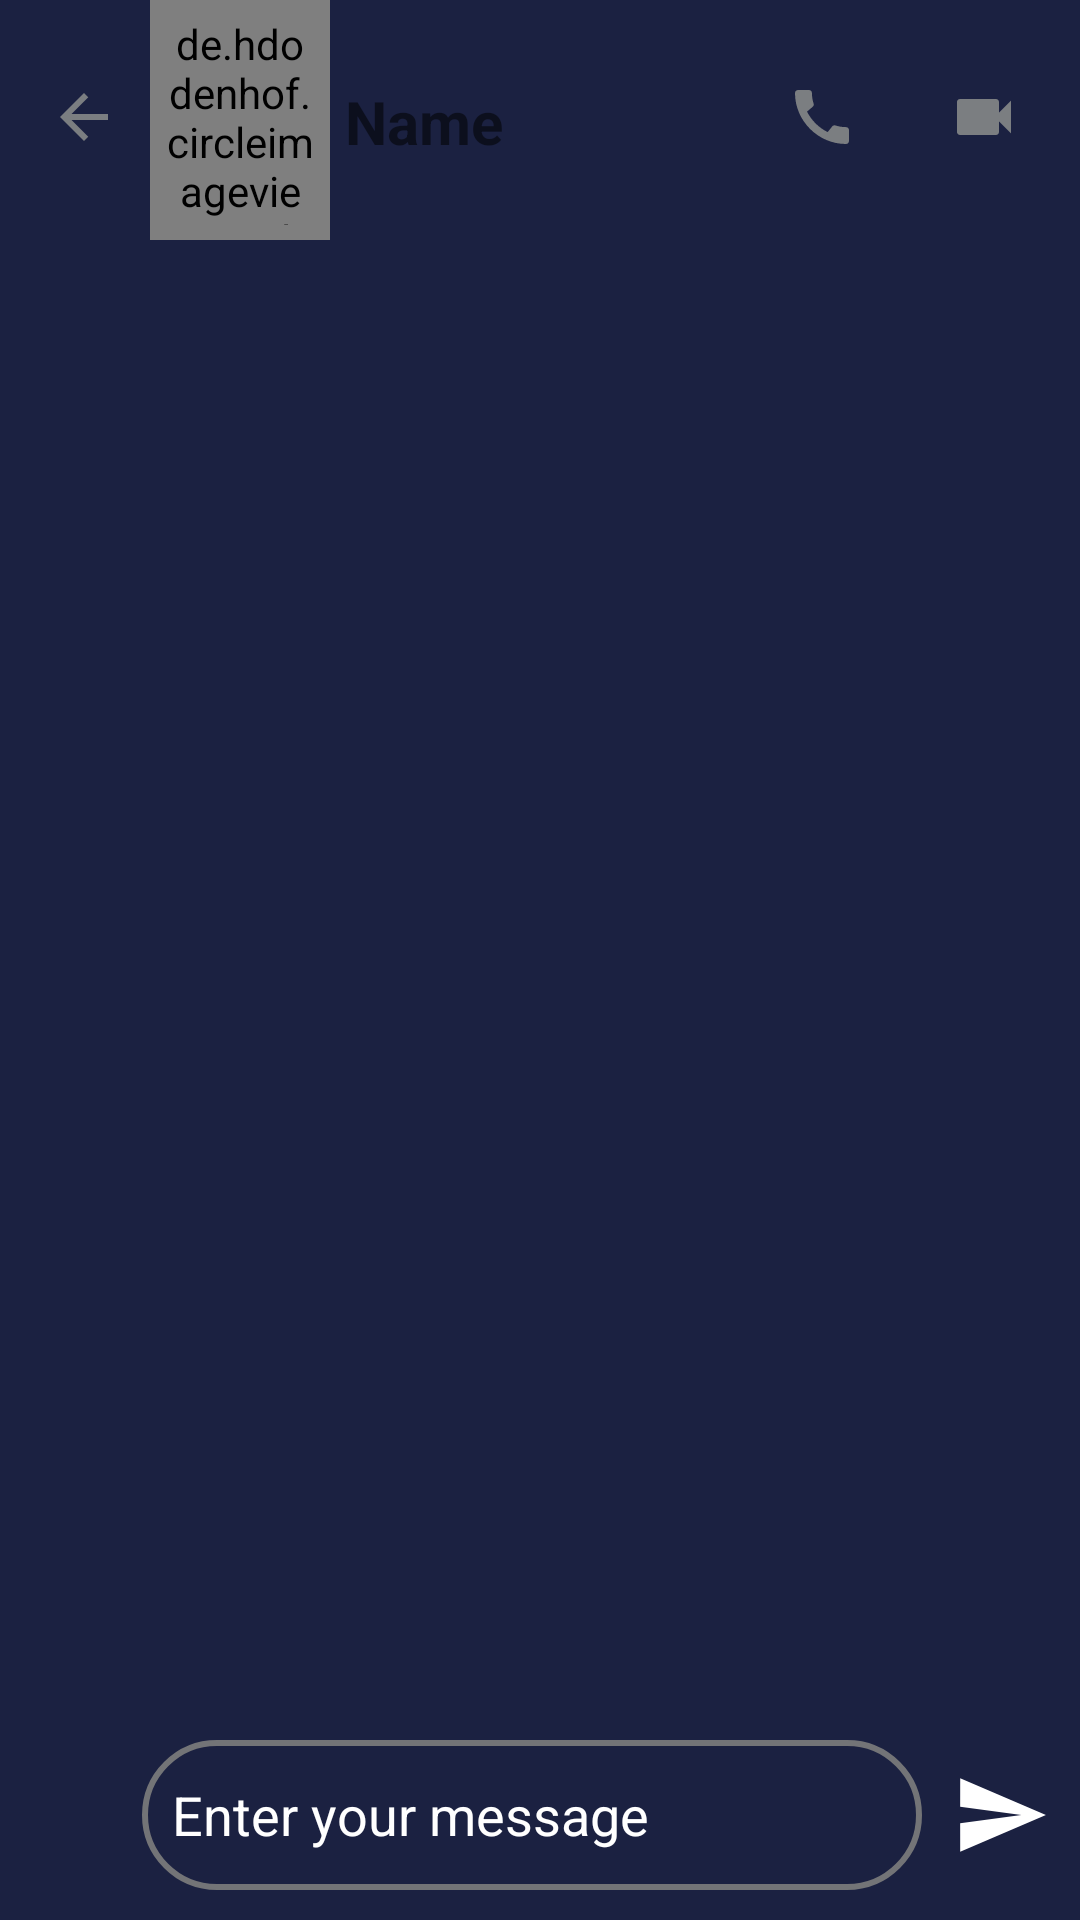

Locate icon controls on the screen. Image size 1080px×1920px, boxes as (x1=x1, y1=y1, x2=x2, y2=y2).
arrow back: (x1=60, y1=93, x2=108, y2=141)
call: (x1=795, y1=90, x2=849, y2=144)
send: (x1=960, y1=1778, x2=1046, y2=1852)
videocam: (x1=957, y1=99, x2=1011, y2=135)
